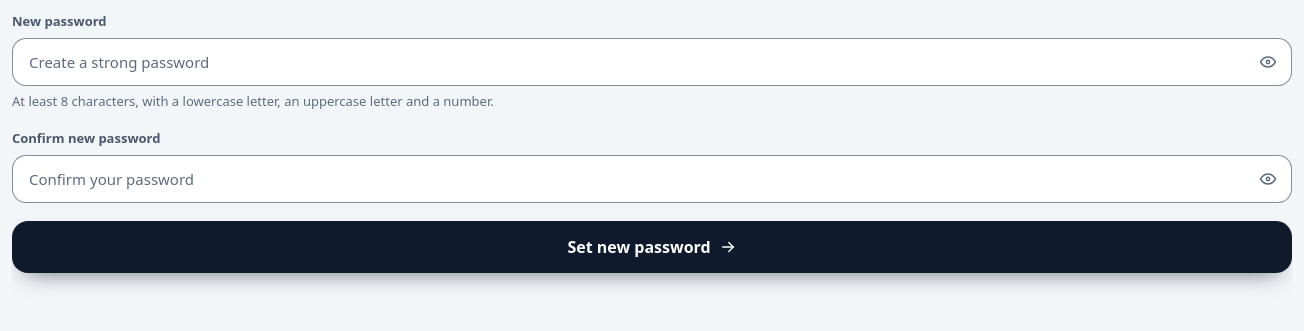
ResetPasswordForm validation › asks for both fields instead of submitting an empty form
Click the button "Set new password" at (652, 246), box [12, 220, 1292, 272]
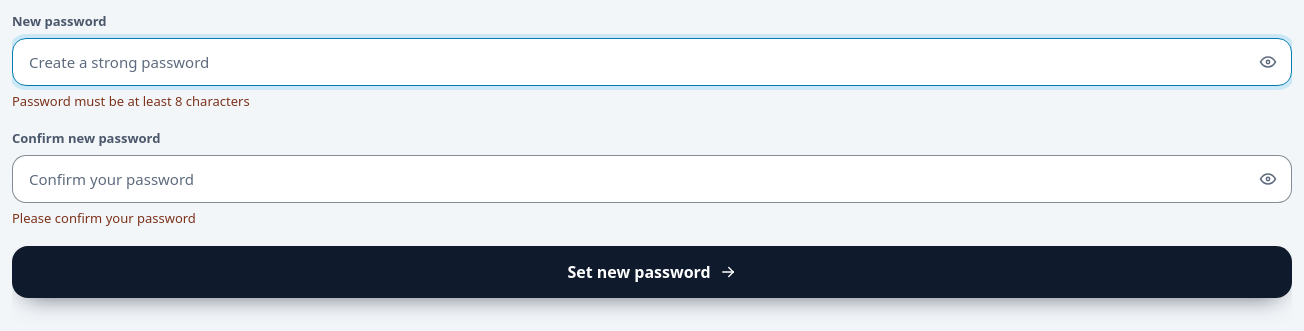
Expected: the text "Password must be at least 8 characters" is shown, [12, 92, 250, 110]
Expected: the text "Please confirm your password" is shown, [12, 208, 196, 226]
